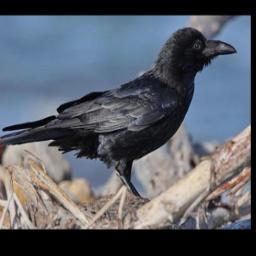Crow: (0, 27, 238, 206)
